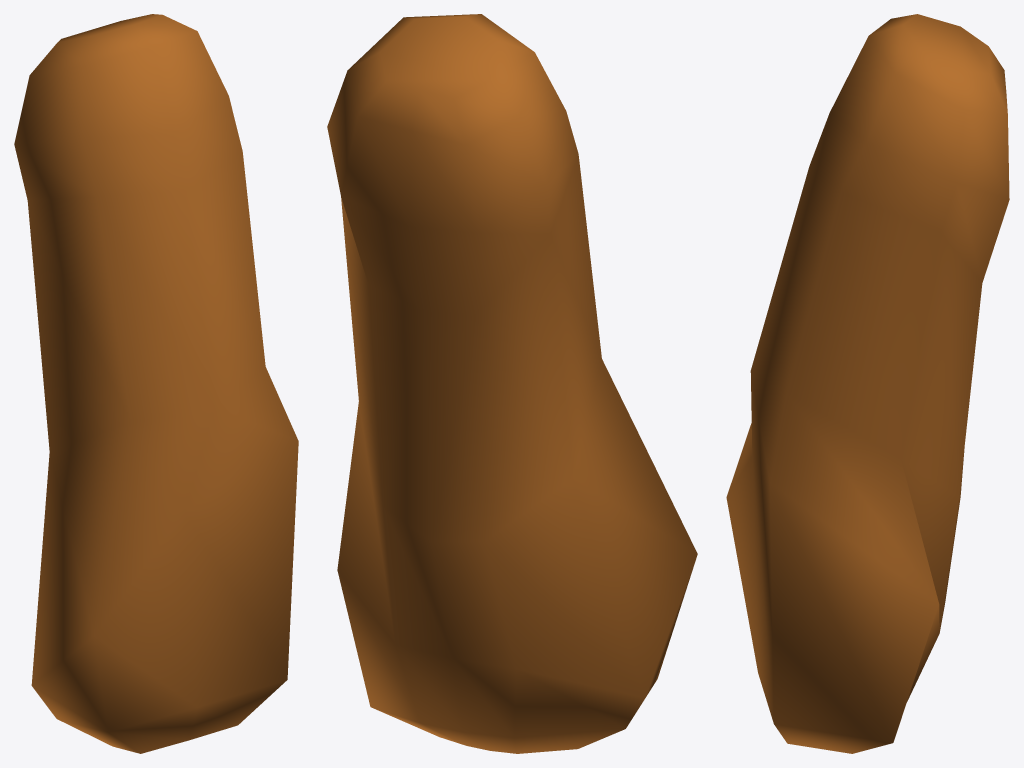
File: finger41.DAE
3 renders of one model, left to right at view 1: azimuth 30°, elevation 25°; view 2: azimuth 150°, elevation 25°; view 3: azimuth 270°, elevation 25°, orthographic. The views are drawn at different scales.
Parts seen in each view (by area): view 1: VIFS01; view 2: VIFS01; view 3: VIFS01.
Boxes of the visible parts, box(x1,y1,x2,y2) form: VIFS01: box(14, 14, 298, 753); VIFS01: box(327, 14, 697, 753); VIFS01: box(726, 14, 1009, 753).
Bounding box in the file's own units: 2.32 × 6.48 × 2.35.
